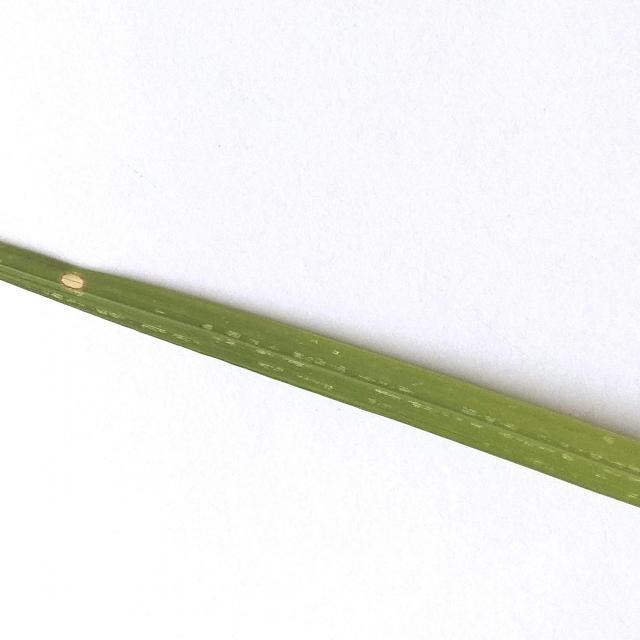Rice_Blast: (48, 262, 91, 292)
